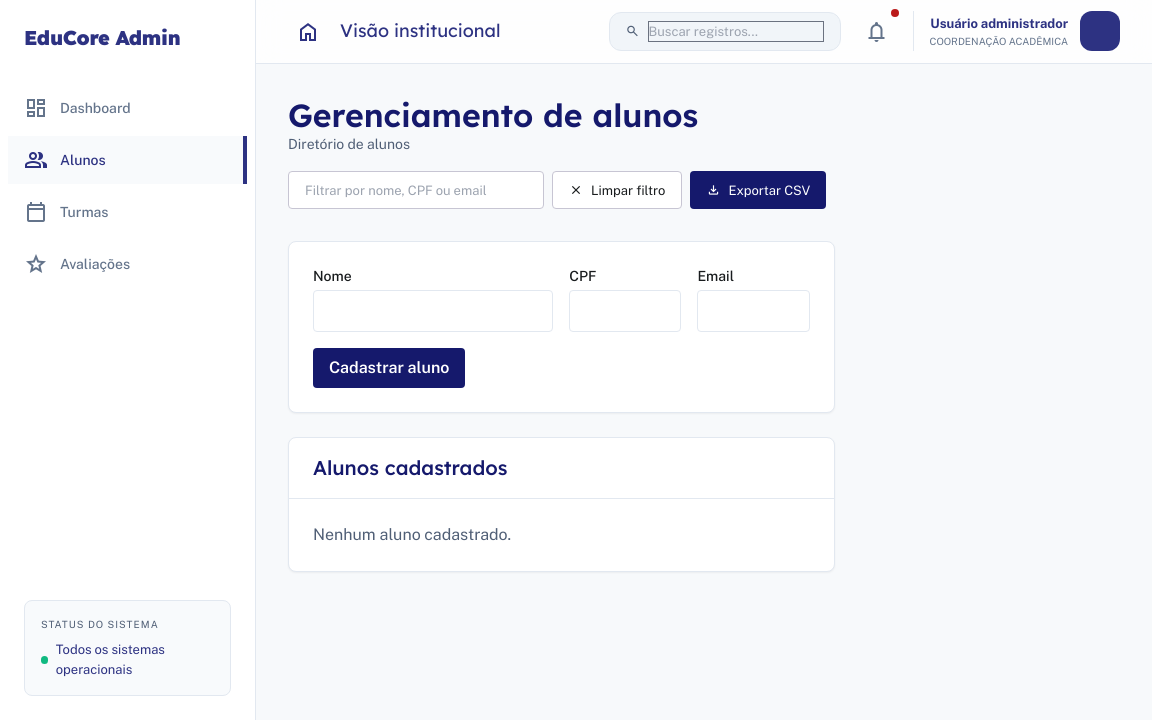
Tela de alunos › mostra erro para email inválido
This screenshot has width=1152, height=720.
In the field labelled "Nome": (433, 311) [313, 290, 553, 332], type "Ana"
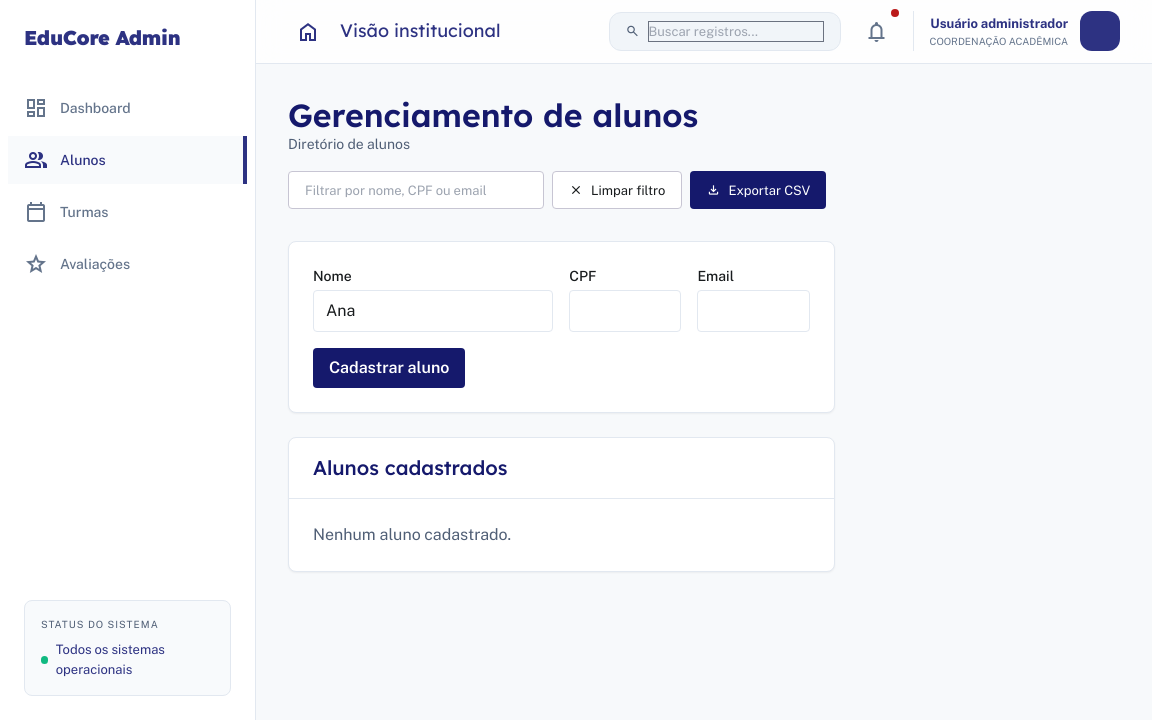
In the field labelled "CPF": (625, 311) [569, 290, 682, 332], type "12345678901"
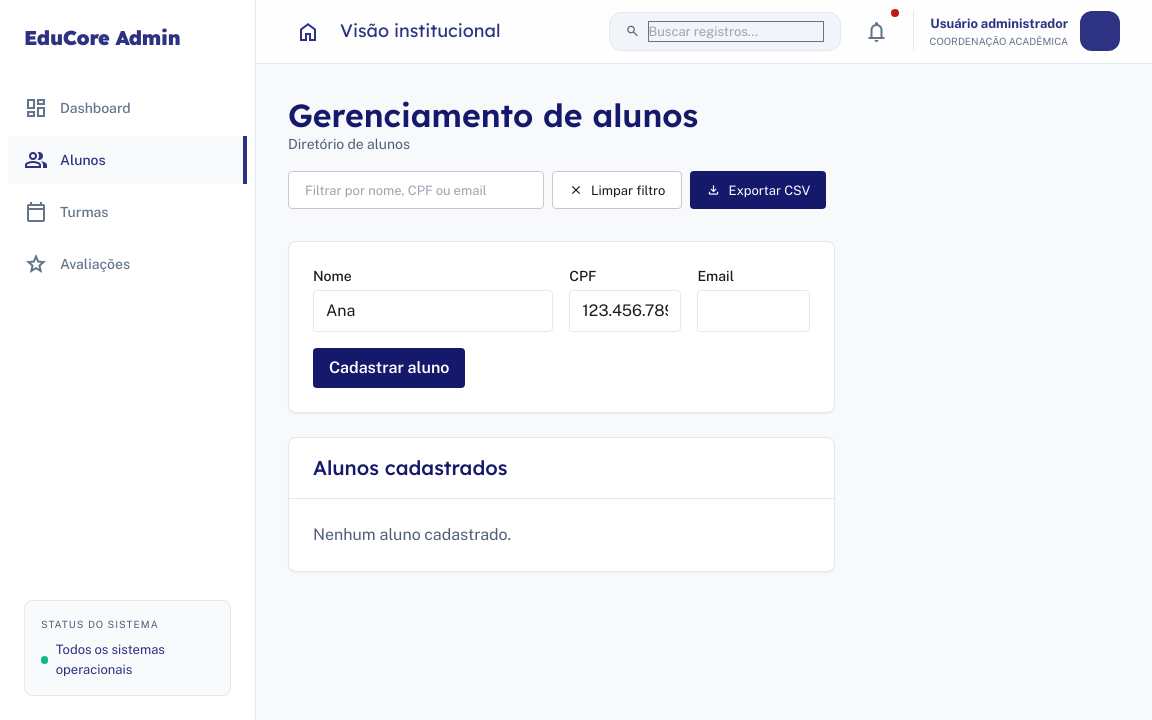
In the field labelled "Email": (754, 311) [698, 290, 810, 332], type "email-invalido"
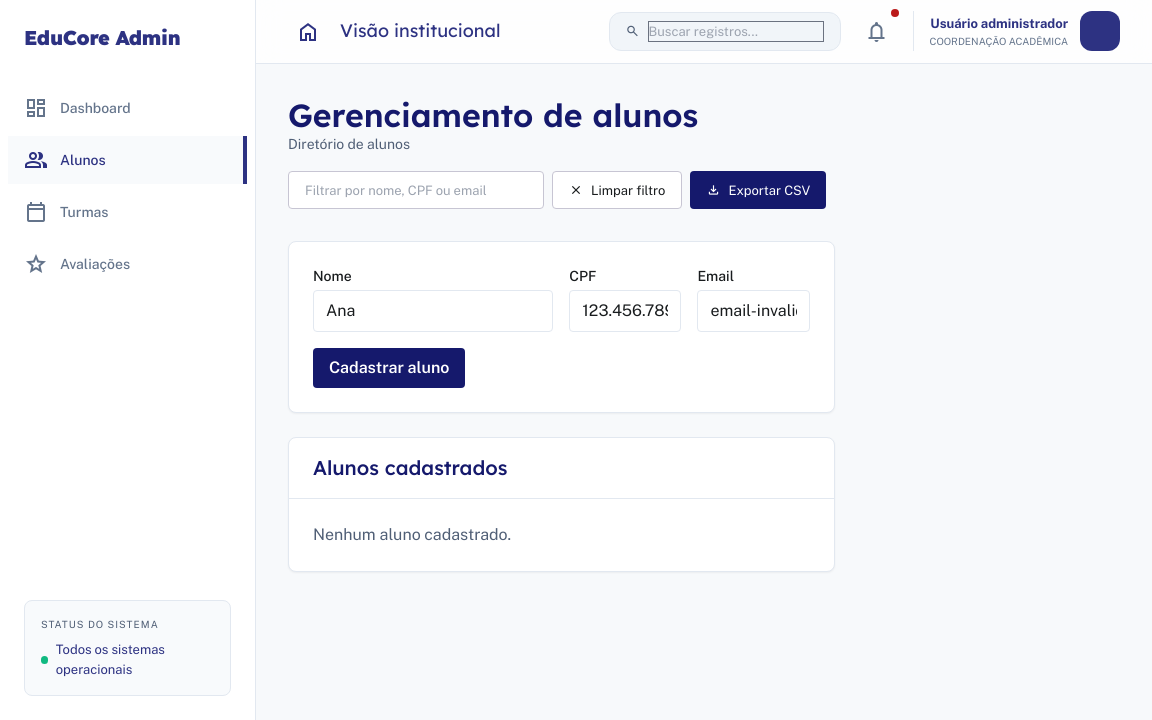
Click the button "Cadastrar aluno": (389, 368) [313, 348, 465, 388]
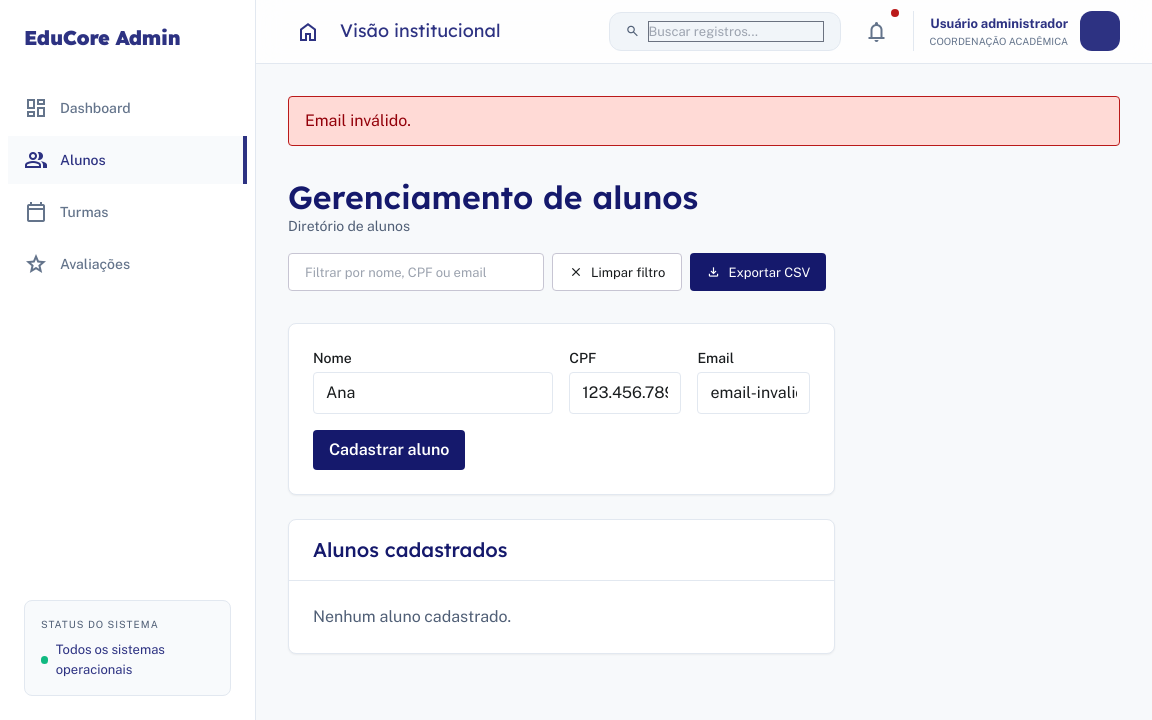
Result: the message shows "Email inválido" at [305, 111, 411, 130]
